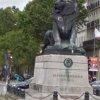Statue: (24, 2, 100, 57)
